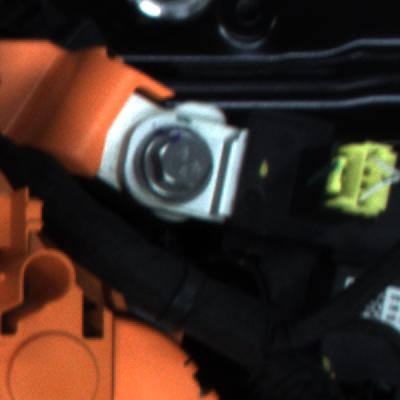nut_b: (129, 115, 220, 210)
